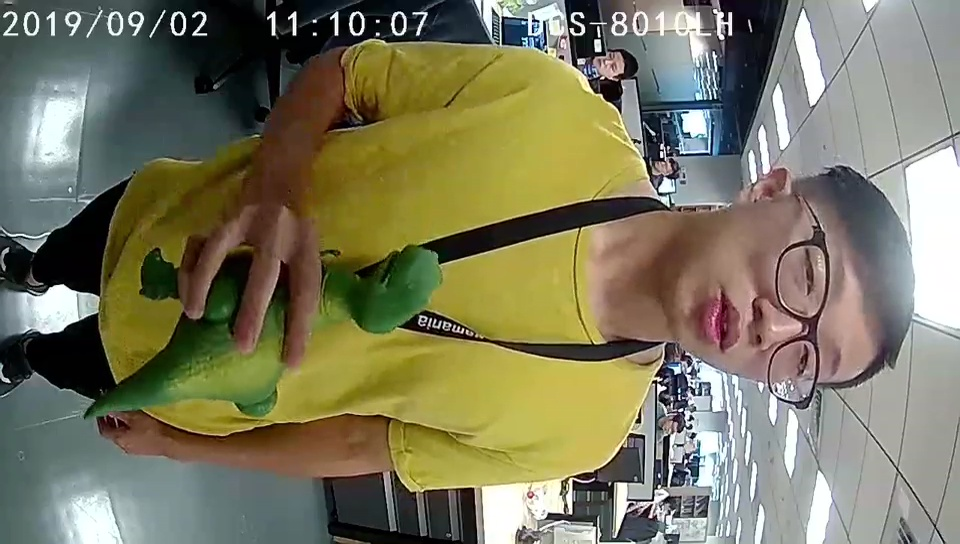rex: (153, 248, 444, 415)
